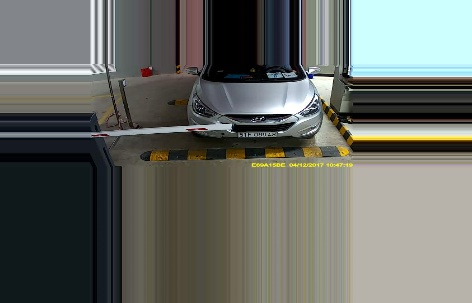plate: (236, 127, 282, 139)
